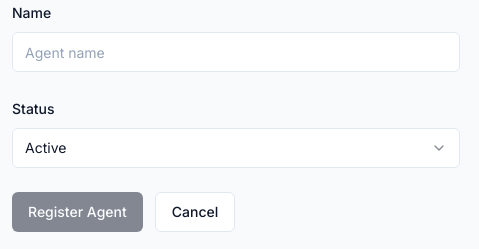
AgentForm › enables submit when name is filled
This screenshot has width=479, height=249.
In the field labelled "Name": [236, 52] box [12, 32, 460, 72], type "HAL 9000"
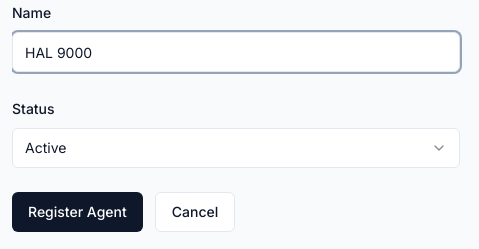
expect the button "Register Agent" is enabled: met, box [12, 192, 143, 232]
